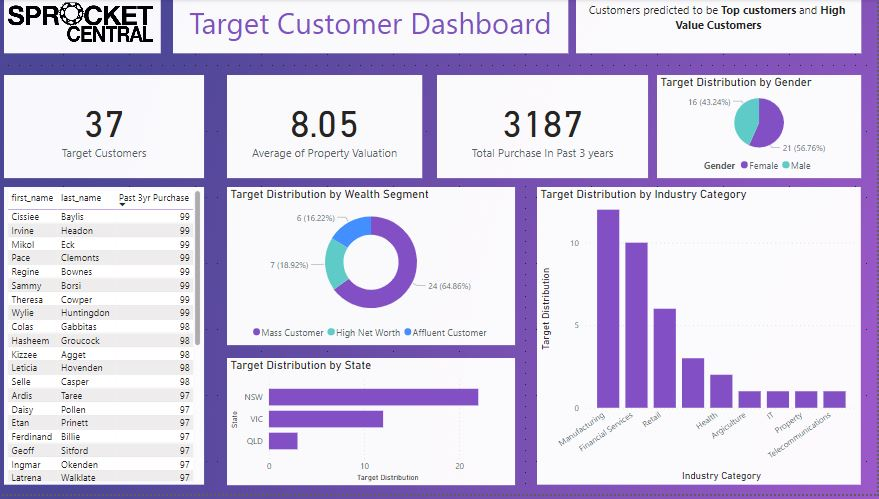

The page's visual inventory and layout, read from the dashboard file:
{"tool":"powerbi","page":{"name":"Target Customers","canvas":[1280,720],"ordinal":1},"visuals":[{"type":"image","box":[10.2,0,228.4,78.5],"z":0},{"type":"textbox","box":[256,0,574.5,78.5],"z":1000},{"type":"donutChart","fields":{"Category":["new_customers.wealth_segment"],"Y":["CountNonNull(new_customers.target)"]},"box":[334.5,273.5,418.9,229.8],"z":2000},{"type":"card","fields":{"Values":["Sum(new_customers.target)"]},"box":[10.2,110.5,290.9,149.8],"z":3000},{"type":"tableEx","fields":{"Values":["new_customers.first_name","new_customers.last_name","Sum(new_customers.past_3_years_bike_related_purchases)"]},"box":[10.2,273.5,290.9,433.5],"z":4000},{"type":"barChart","fields":{"Category":["new_customers.state"],"Y":["CountNonNull(new_customers.should_target)"]},"box":[334.5,522.2,418.9,184.7],"z":5000},{"type":"columnChart","fields":{"Category":["new_customers.job_industry_category"],"Y":["CountNonNull(new_customers.should_target)"]},"box":[785.5,273.5,471.3,433.5],"z":6000},{"type":"pieChart","fields":{"Category":["new_customers.gender"],"Y":["CountNonNull(new_customers.should_target)"]},"box":[960,110.5,296.7,149.8],"z":7000},{"type":"card","fields":{"Values":["Avg(new_customers.property_valuation)"]},"box":[334.5,110.5,283.6,149.8],"z":8000},{"type":"card","fields":{"Values":["Sum(new_customers.past_3_years_bike_related_purchases)"]},"box":[640,110.5,306.9,149.8],"z":9000},{"type":"textbox","box":[842.2,0,414.5,78.5],"z":9001}]}

Visuals, with their boxes in screenshot pixels (x1, y1, x2, y2), scaled from the page's 1280x720 canvas onto the 879x499 screenshot:
image: (x1=7, y1=0, x2=164, y2=54)
textbox: (x1=176, y1=0, x2=570, y2=54)
donutChart - new_customers.wealth_segment x CountNonNull(new_customers.target): (x1=230, y1=190, x2=517, y2=349)
card - Sum(new_customers.target): (x1=7, y1=77, x2=207, y2=180)
tableEx - new_customers.first_name x new_customers.last_name: (x1=7, y1=190, x2=207, y2=490)
barChart - new_customers.state x CountNonNull(new_customers.should_target): (x1=230, y1=362, x2=517, y2=490)
columnChart - new_customers.job_industry_category x CountNonNull(new_customers.should_target): (x1=539, y1=190, x2=863, y2=490)
pieChart - new_customers.gender x CountNonNull(new_customers.should_target): (x1=659, y1=77, x2=863, y2=180)
card - Avg(new_customers.property_valuation): (x1=230, y1=77, x2=424, y2=180)
card - Sum(new_customers.past_3_years_bike_related_purchases): (x1=440, y1=77, x2=650, y2=180)
textbox: (x1=578, y1=0, x2=863, y2=54)
